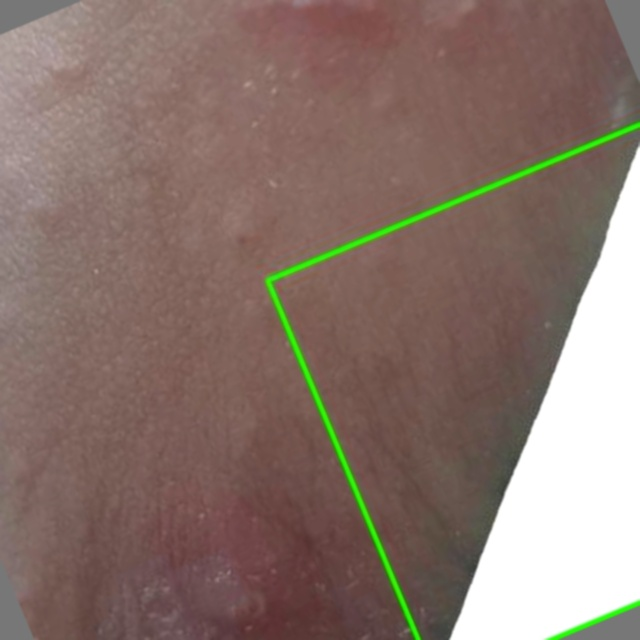Scabies: (267, 124, 639, 639)
